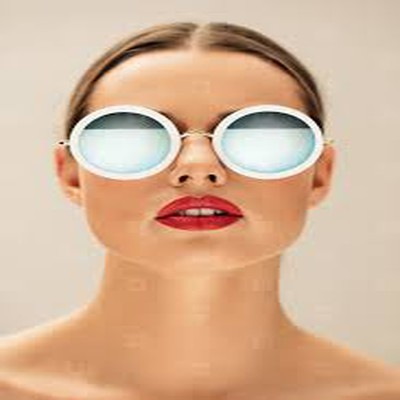eywear: (62, 56, 332, 197)
